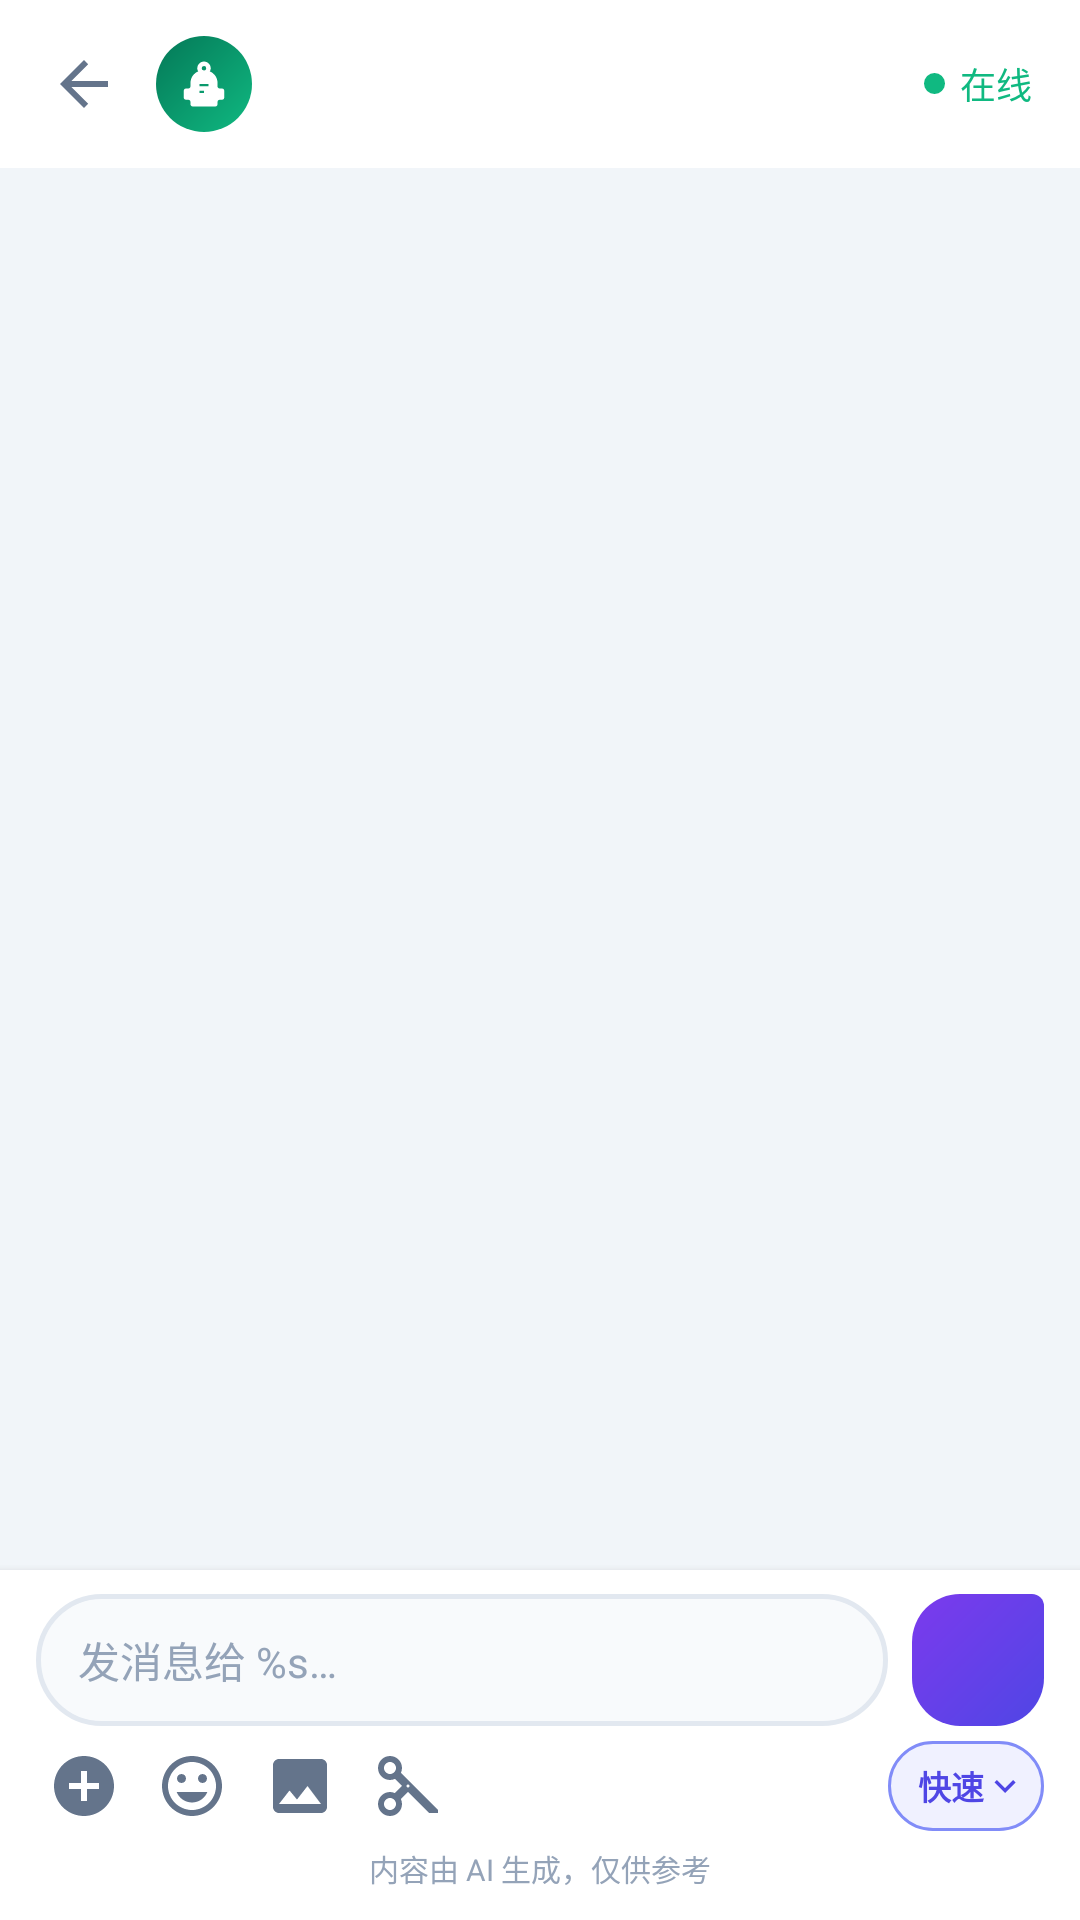

Screen size 1080px×1920px. Icon name, then its box in pixels as (x1, y1, x2, y2):
图片: (273, 1759, 327, 1813)
添加: (54, 1756, 114, 1816)
表情: (162, 1756, 222, 1816)
返回: (60, 60, 108, 108)
